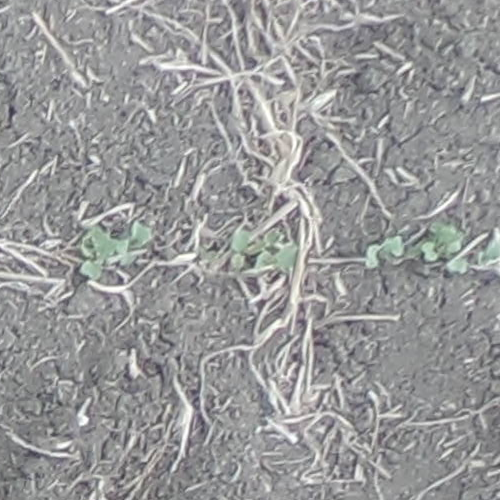clumped: (231, 232, 294, 272), (79, 225, 116, 276)
isolated: (363, 237, 405, 269), (423, 228, 463, 261), (115, 221, 150, 257)
